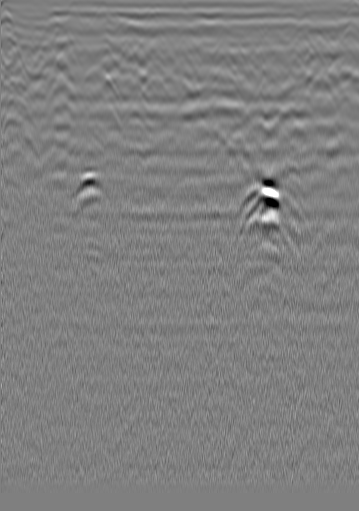가스: (67, 168, 109, 208)
상수: (318, 20, 338, 40)
오수: (29, 25, 49, 45)
우수: (175, 29, 195, 49)
